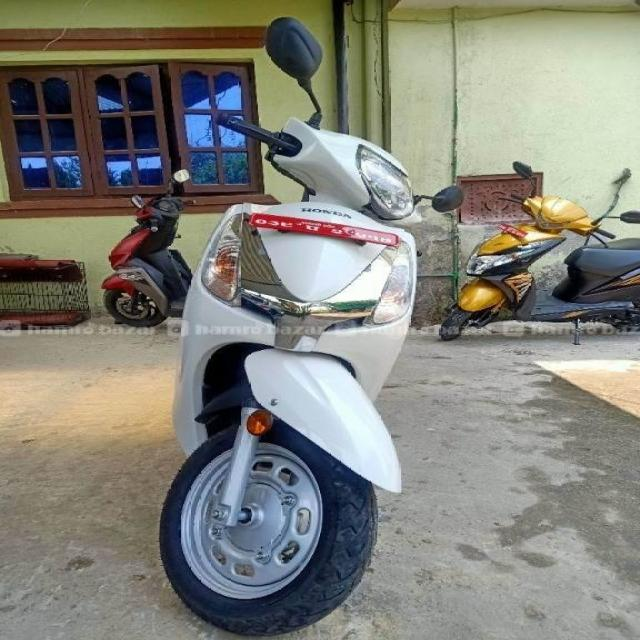License-plate: (242, 215, 404, 250)
